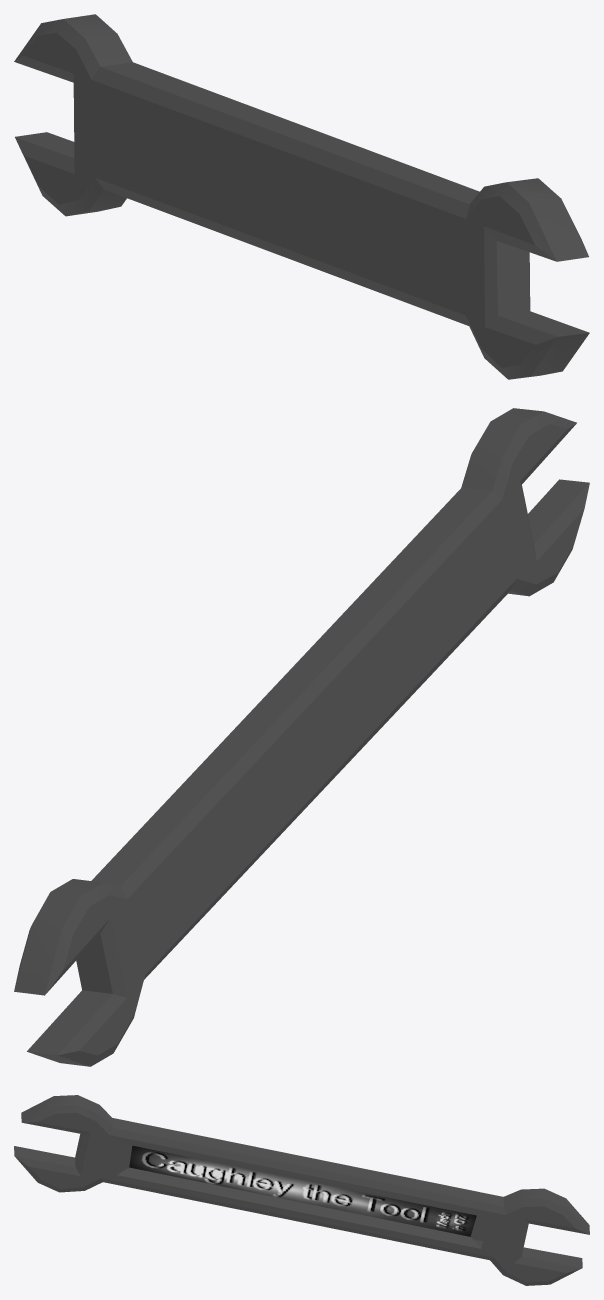
File: p_spanner2.glb
3 views of the same model, one above another, from view 1: azimuth 30°, elevation 25°; view 2: azimuth 150°, elevation 25°; view 3: azimuth 270°, elevation 25° (orthographic). The views are drawn at different scales.
Visible parts, largest first — view 1: p_spanner2; view 2: p_spanner2; view 3: p_spanner2.
Part boxes in pixels (box(x1,y1,x2,y2)): p_spanner2: box(14, 14, 589, 379); p_spanner2: box(14, 408, 589, 1066); p_spanner2: box(14, 1095, 589, 1285).
Size of the model in its own units: 1.28 by 5.78 by 16.48.
2 materials, 2 textured.
